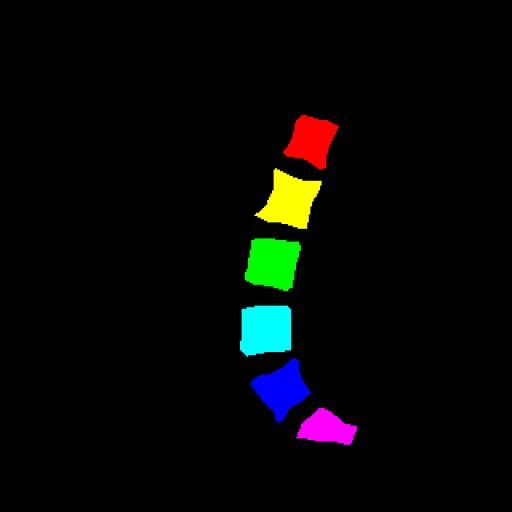L1: (283, 115, 339, 170)
L2: (255, 169, 322, 229)
L3: (245, 238, 301, 291)
L4: (240, 306, 291, 356)
L5: (251, 359, 310, 422)
S1: (296, 408, 357, 445)
